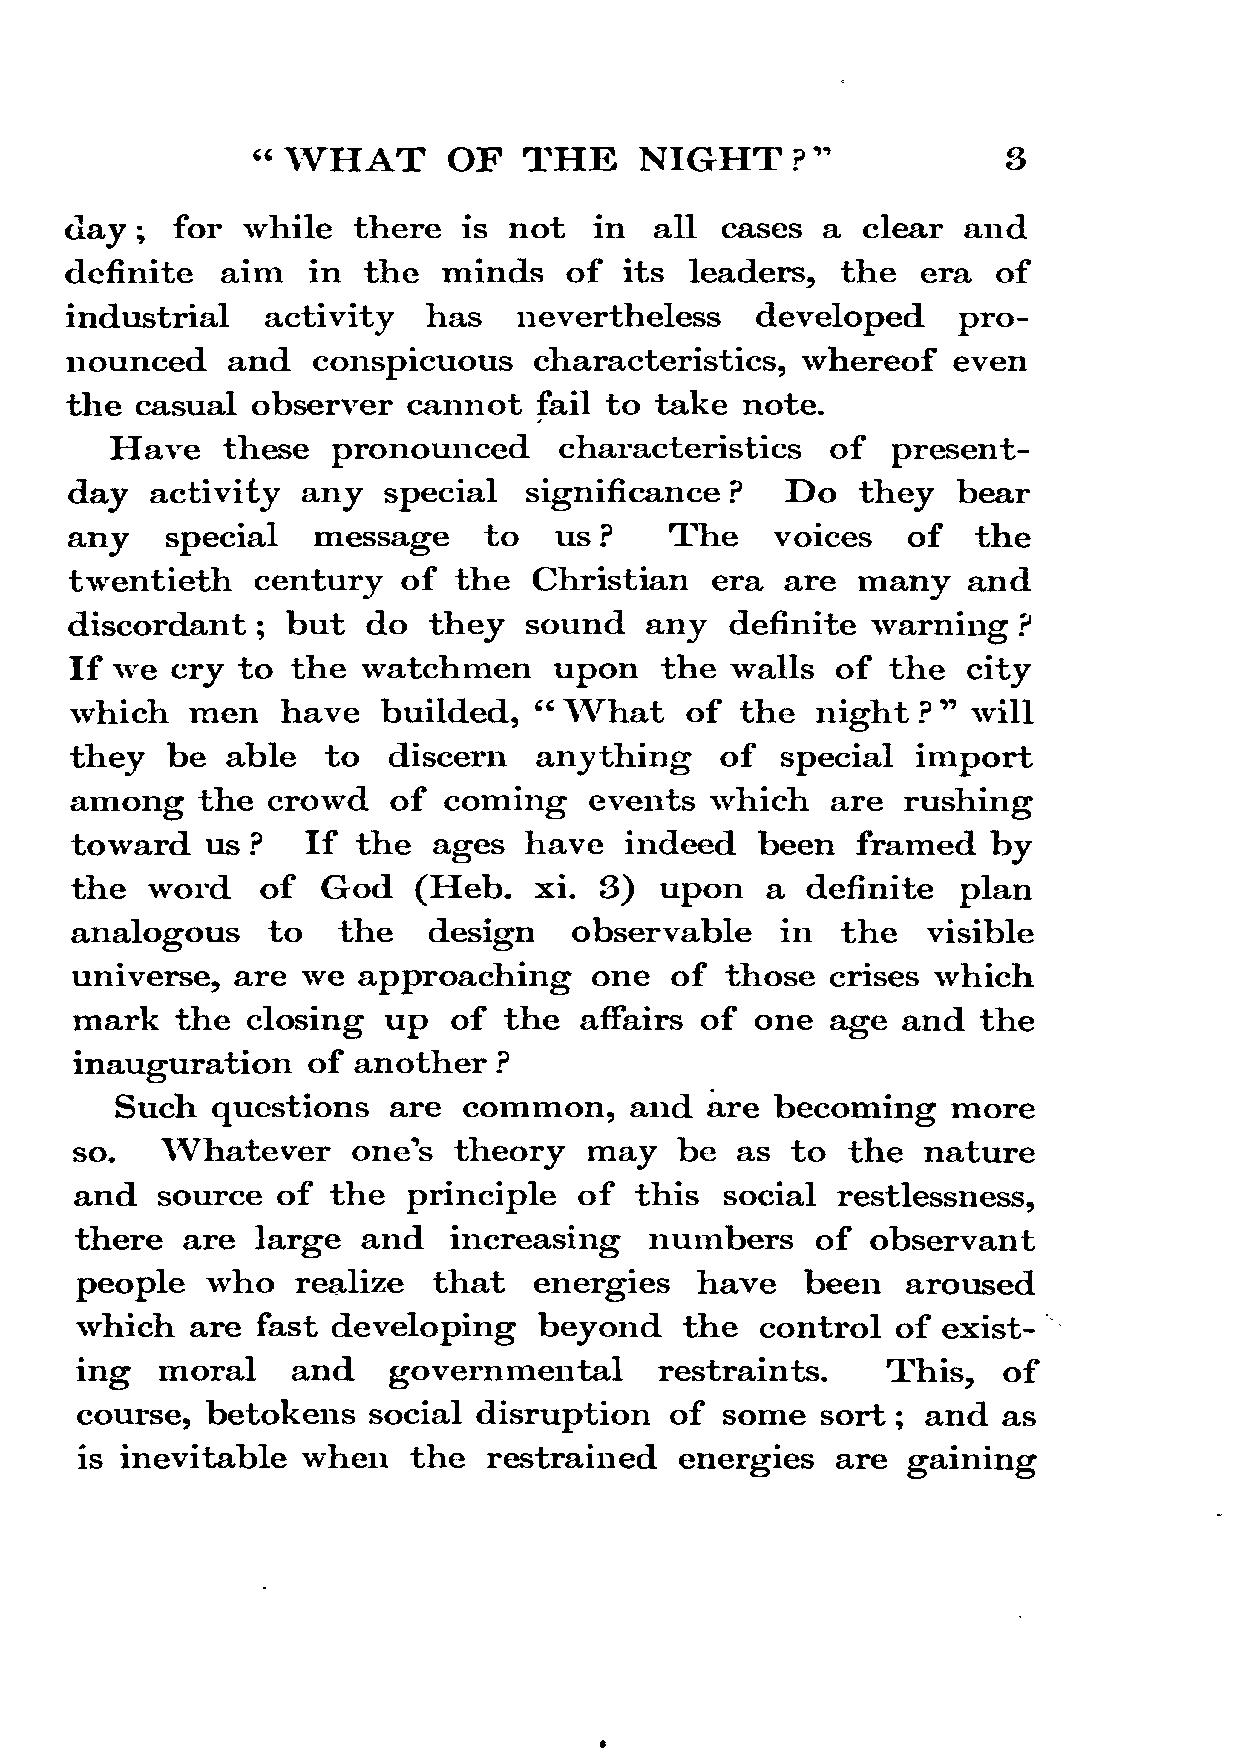content: (58, 207, 1041, 1482)
content_chapter: (250, 136, 833, 174)
content_pagenumber: (998, 145, 1029, 172)
